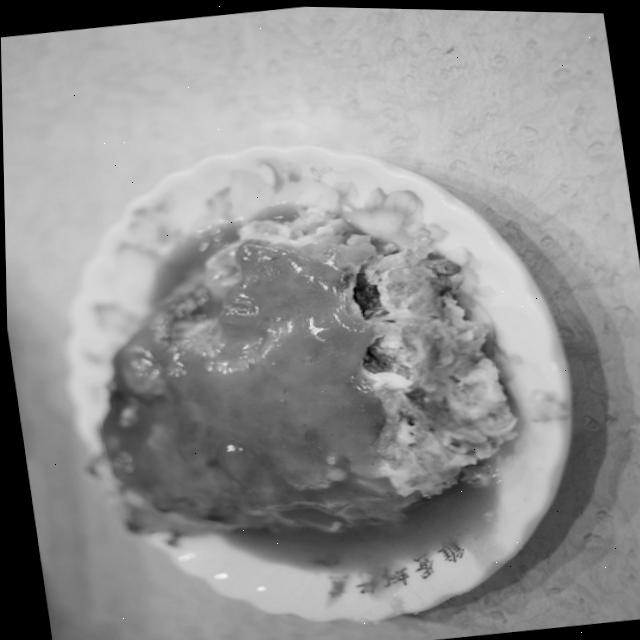熟制海鲜: (4, 103, 624, 640)
